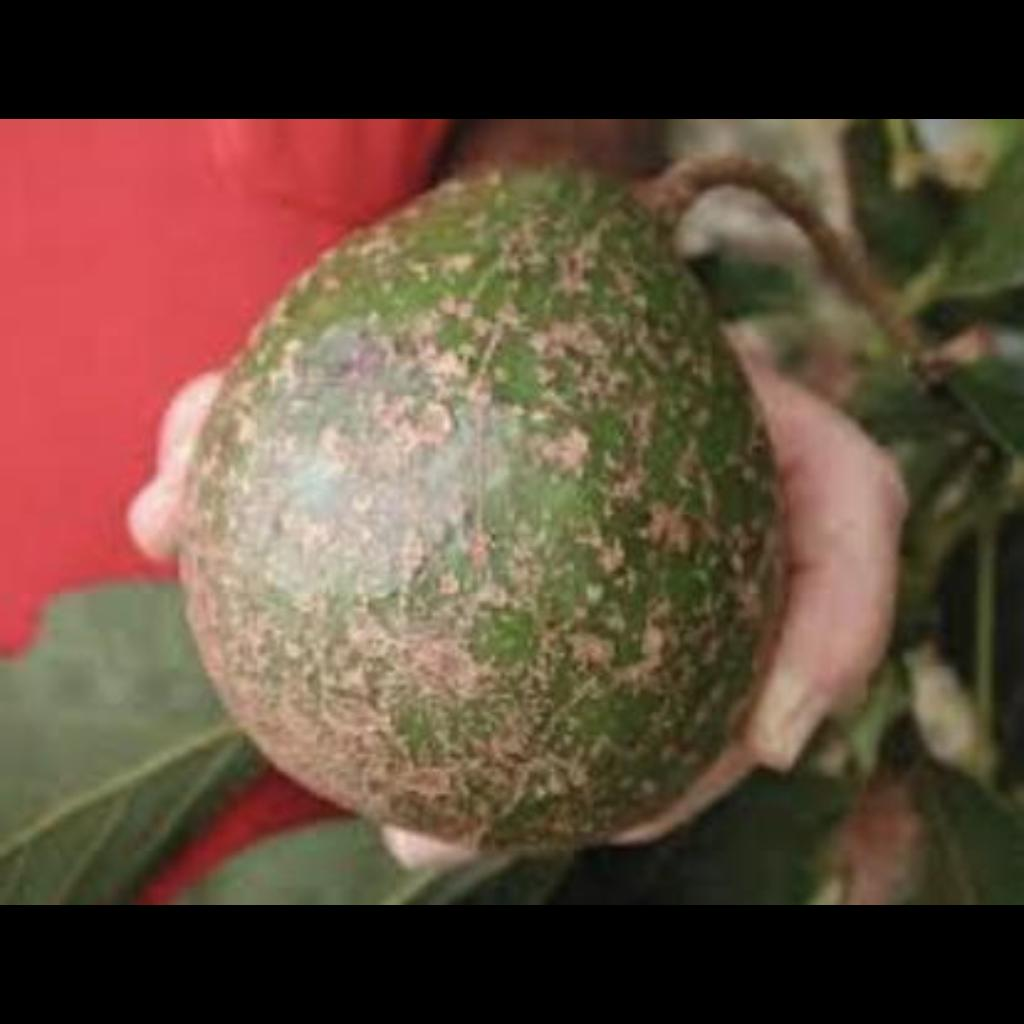cercospora_spot: (200, 172, 796, 846)
